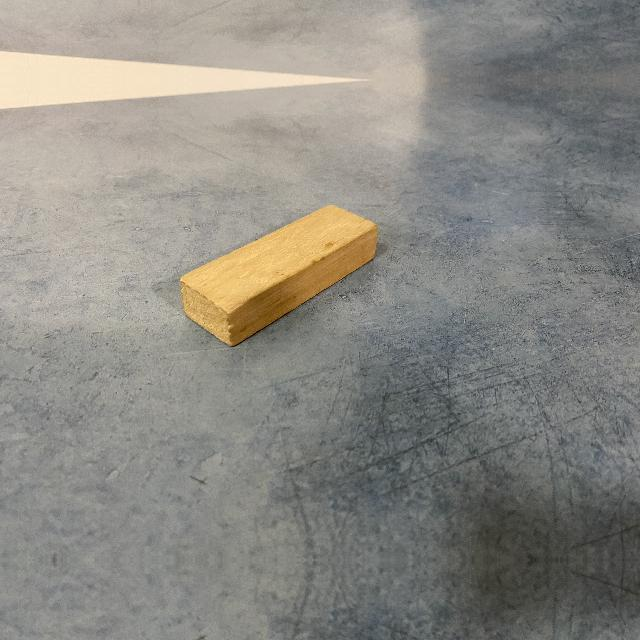jenga: (182, 204, 376, 347)
